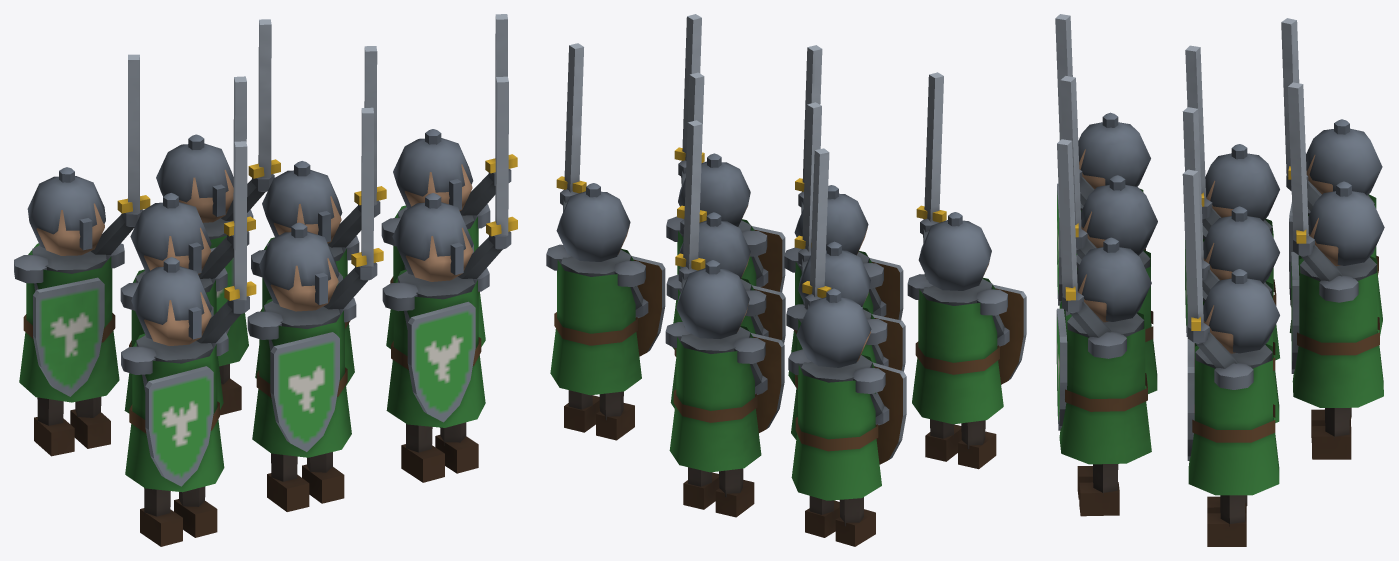
The model's file is squad_dl3_green.glb.
3 views of the same model, side by side, from view 1: azimuth 30°, elevation 25°; view 2: azimuth 150°, elevation 25°; view 3: azimuth 270°, elevation 25° (orthographic). The views are drawn at different scales.
Parts seen in each view (by area): view 1: squad_dl3_green; view 2: squad_dl3_green; view 3: squad_dl3_green.
Boxes of the visible parts, <box> form: squad_dl3_green: <box>14,14,517,546</box>; squad_dl3_green: <box>546,14,1026,546</box>; squad_dl3_green: <box>1055,14,1384,546</box>.
Bounding box in the file's own units: 0.6707 × 0.5703 × 0.4461.
Materials: 1 (1 with a texture image).
